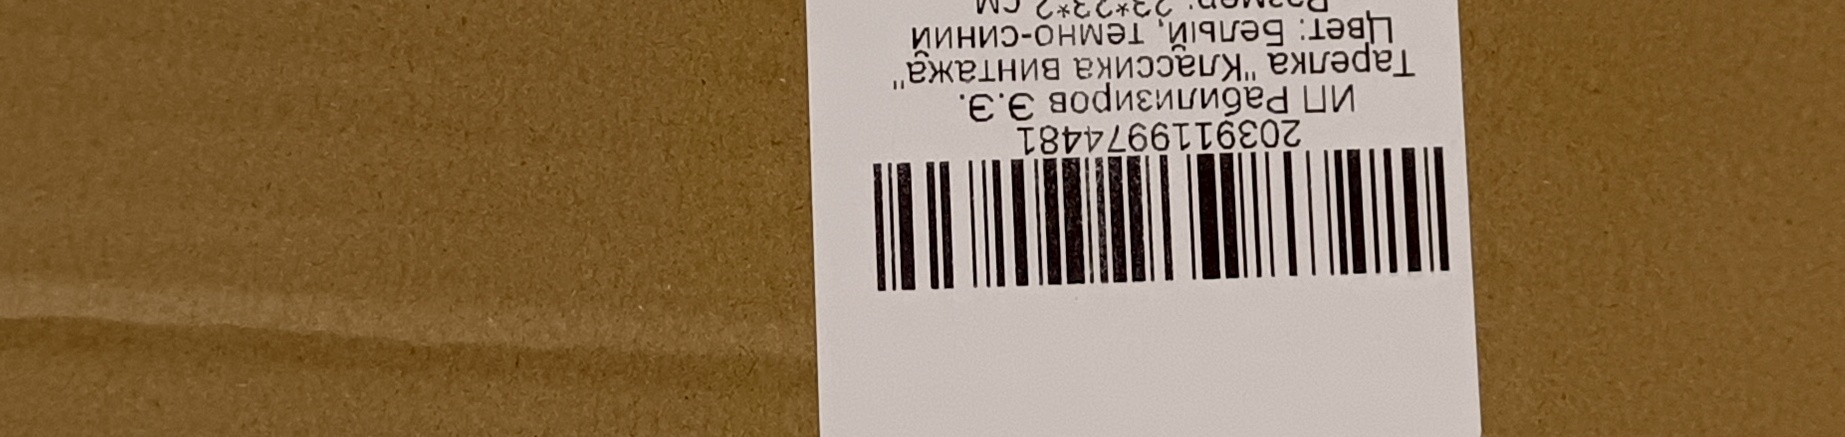1d: (870, 137, 1456, 296)
